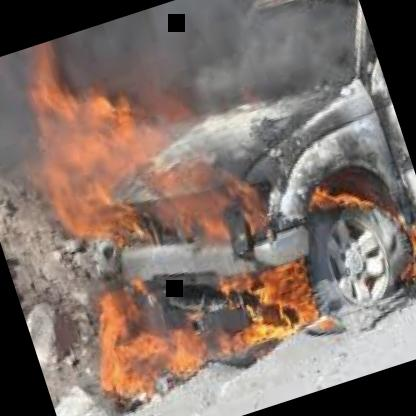fire: (43, 36, 416, 390)
